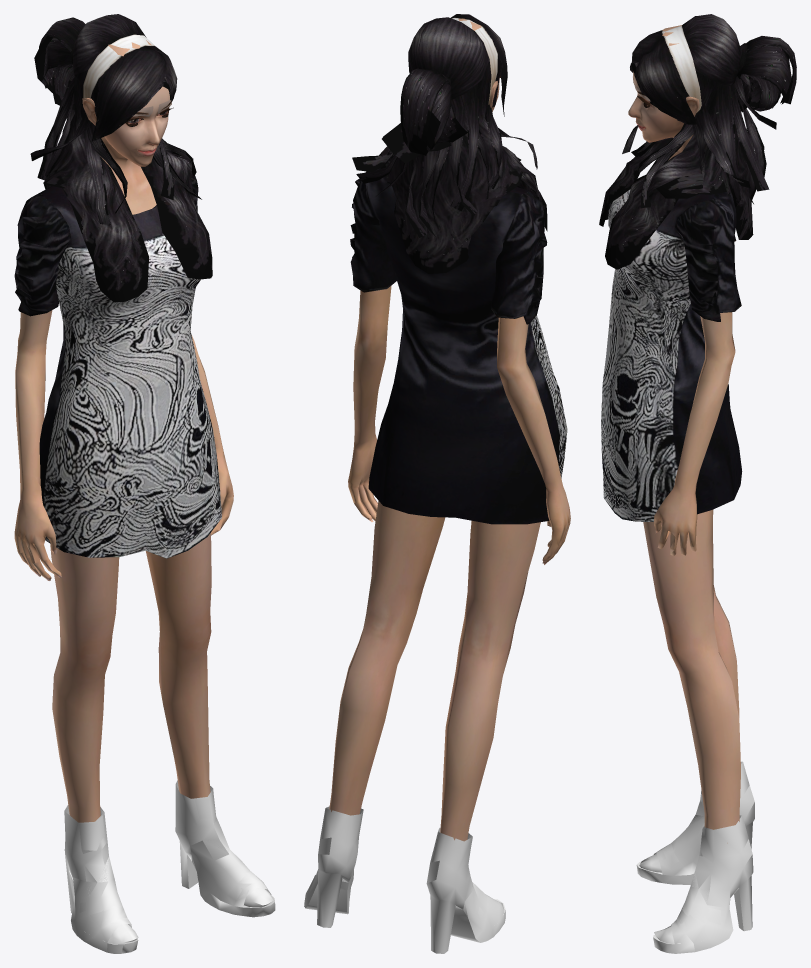
Rendered from girl-brunette.fbx.
3 renders of one model, left to right at view 1: azimuth 30°, elevation 25°; view 2: azimuth 150°, elevation 25°; view 3: azimuth 270°, elevation 25°, orthographic. The views are drawn at different scales.
Visible parts, largest first — view 1: girl_pivot; view 2: girl_pivot; view 3: girl_pivot.
Part boxes in pixels (x1=…): girl_pivot: x1=14, y1=14, x2=275, y2=953; girl_pivot: x1=304, y1=14, x2=570, y2=953; girl_pivot: x1=599, y1=14, x2=796, y2=953.
Bounding box in the file's own units: 0.4334 × 1.51 × 0.31.
Materials: 10 (8 with a texture image).
